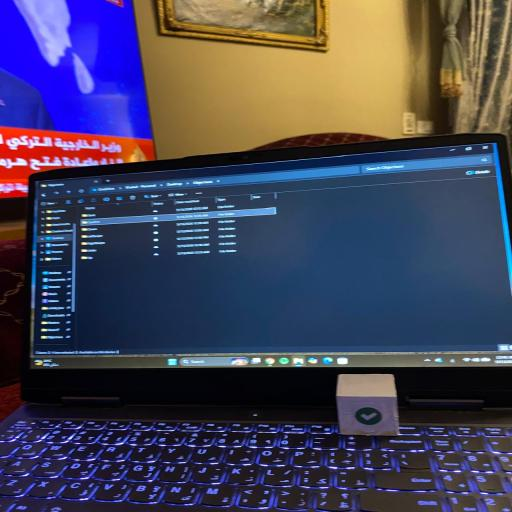Confirm: (334, 372, 401, 437)
